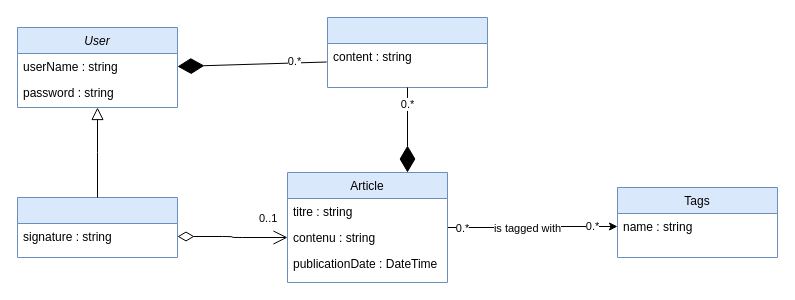
The diagram is 795 pixels wide and 300 high, and some of its shapes have lost their labels. Here are the shapes that lost their labels. From the top down, the box of each, then its label:
(326, 16, 488, 88): Comments
(16, 196, 178, 258): Author
